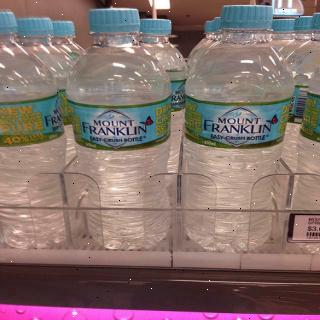Plastic-bottle: (179, 4, 297, 258), (66, 7, 176, 251), (1, 5, 73, 257), (284, 10, 320, 258), (135, 16, 185, 194), (14, 13, 83, 81)
